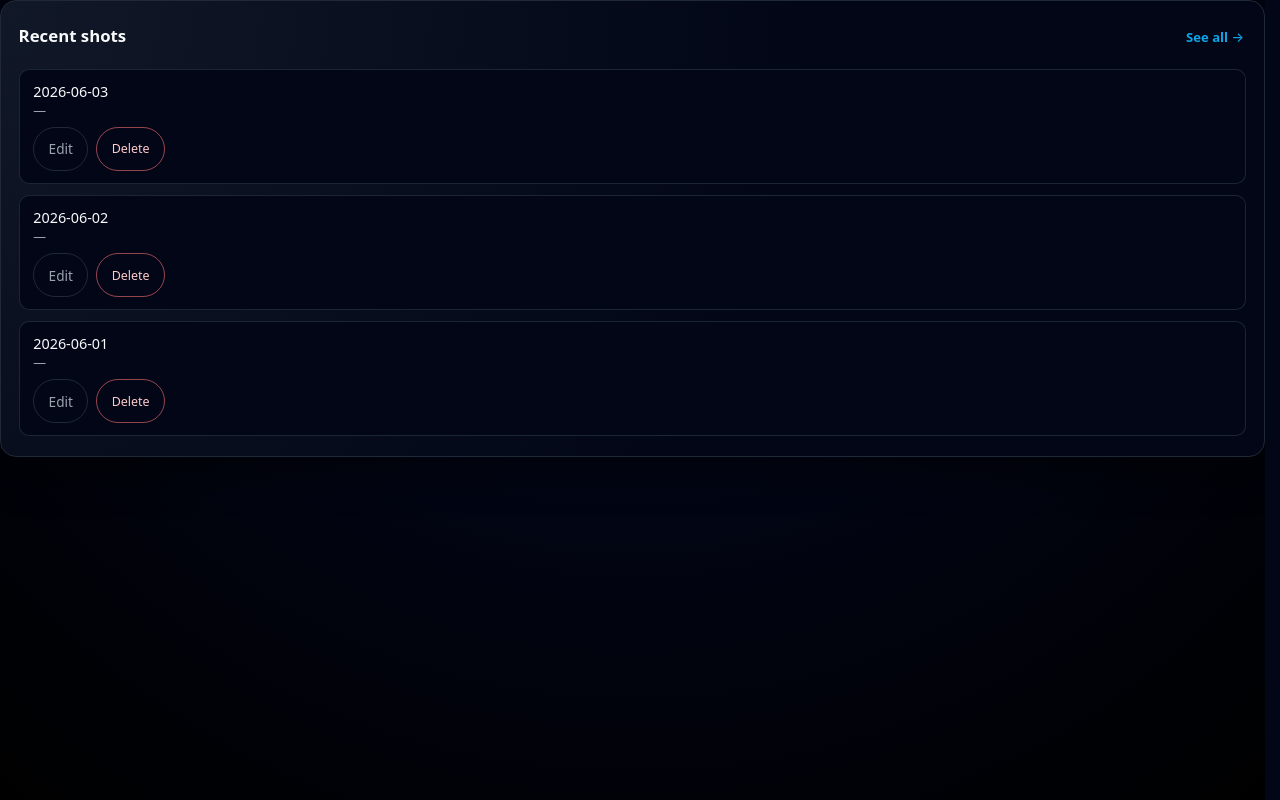
Test: RecentShots › keeps the shot and says so when the delete cannot be written
Click the button "Delete" below "2026-06-03": (131, 149) [96,127,165,171]
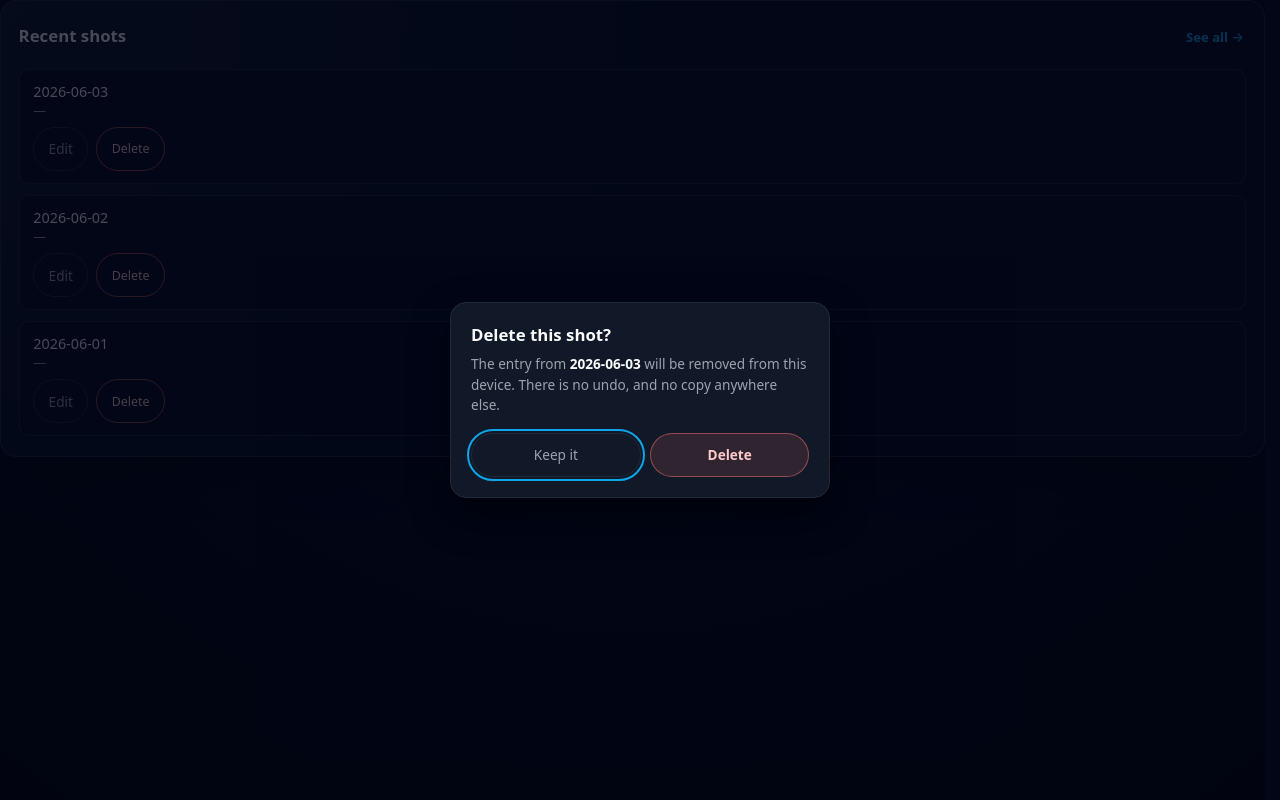
Click the button "Delete": (730, 455) [650,433,809,477]
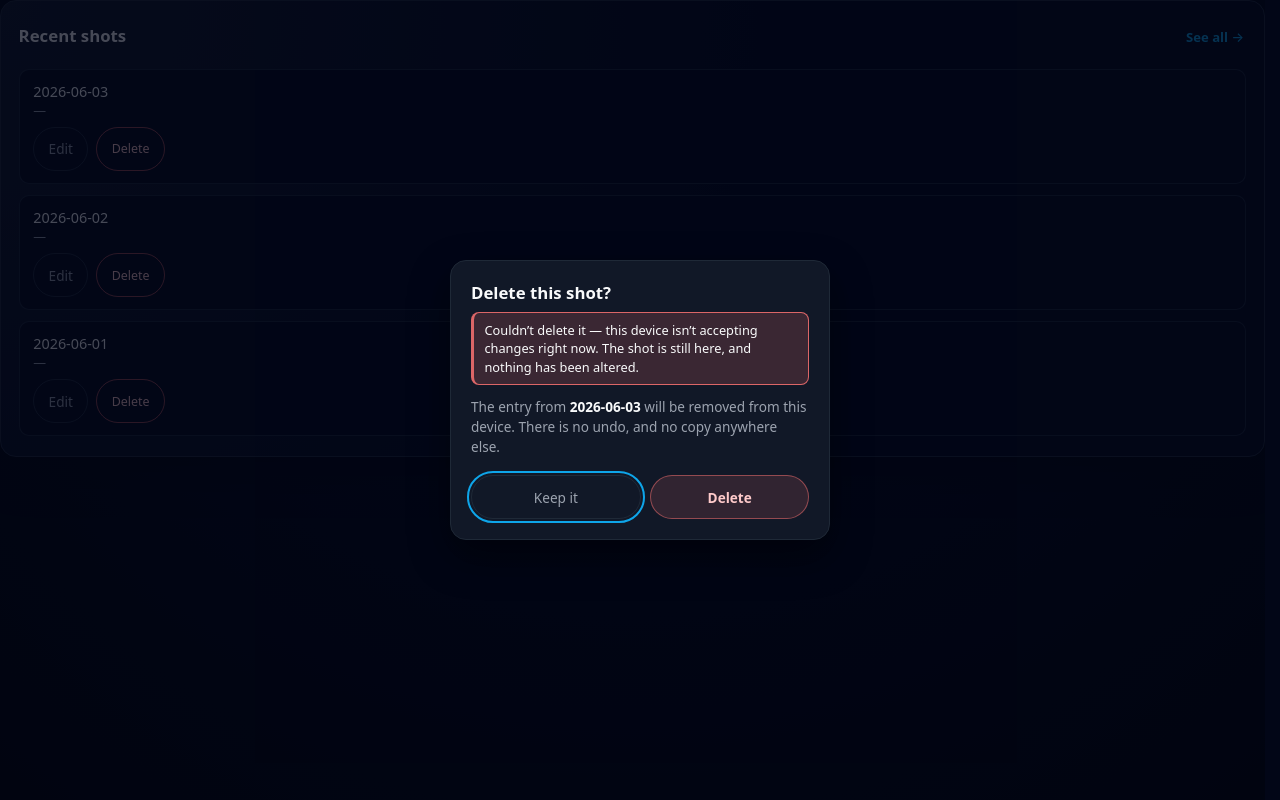
Result: the dialog is shown
Result: the message shows "isn.t accepting changes" at [484,321,758,376]
